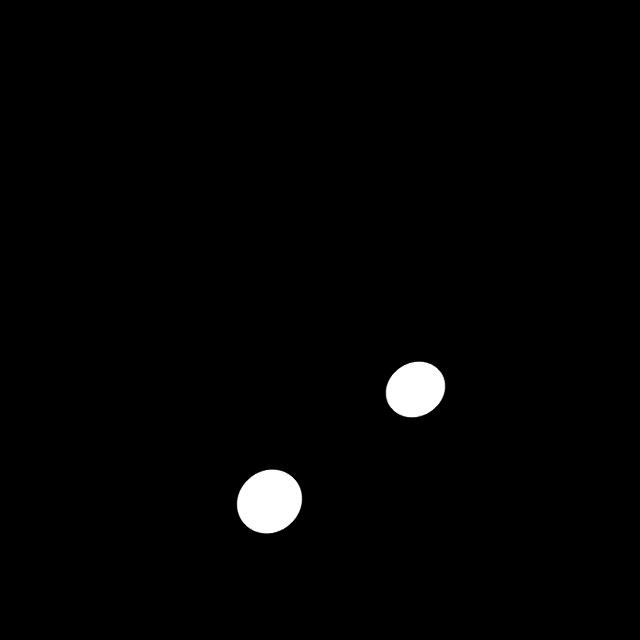Circle: (228, 460, 310, 548), (380, 353, 452, 426)
